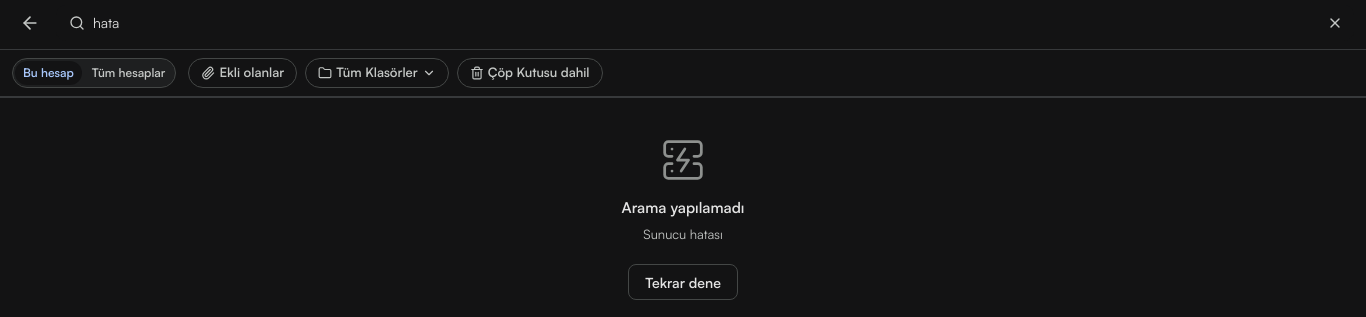
Test: SearchPage (Phase 11) › renders error state and allows retry on network failure
Expected: the heading "Arama yapılamadı" is shown, x1=622 y1=198 x2=744 y2=218
Expected: the text "Sunucu hatası" is shown, x1=643 y1=226 x2=723 y2=244
Click the button "Tekrar dene" at (683, 282), box x1=628 y1=264 x2=738 y2=300
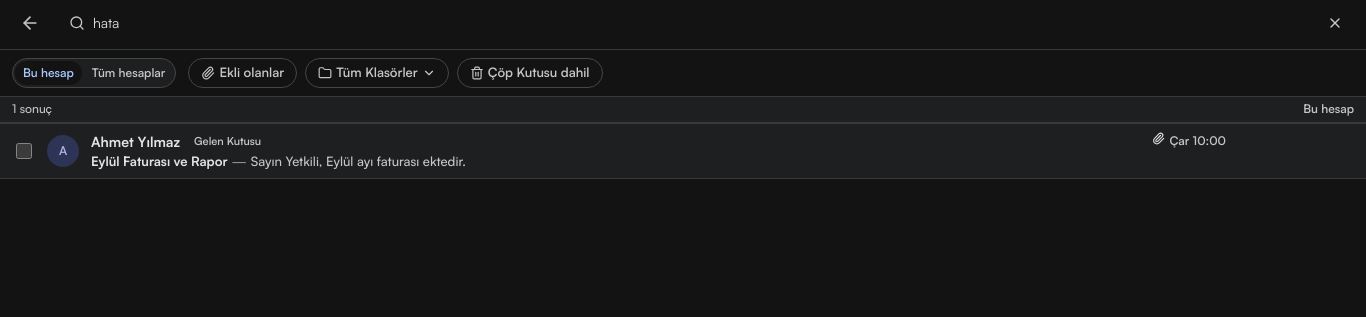
Expected: the text "Eylül Faturası ve Rapor" is shown, x1=91 y1=153 x2=228 y2=170
